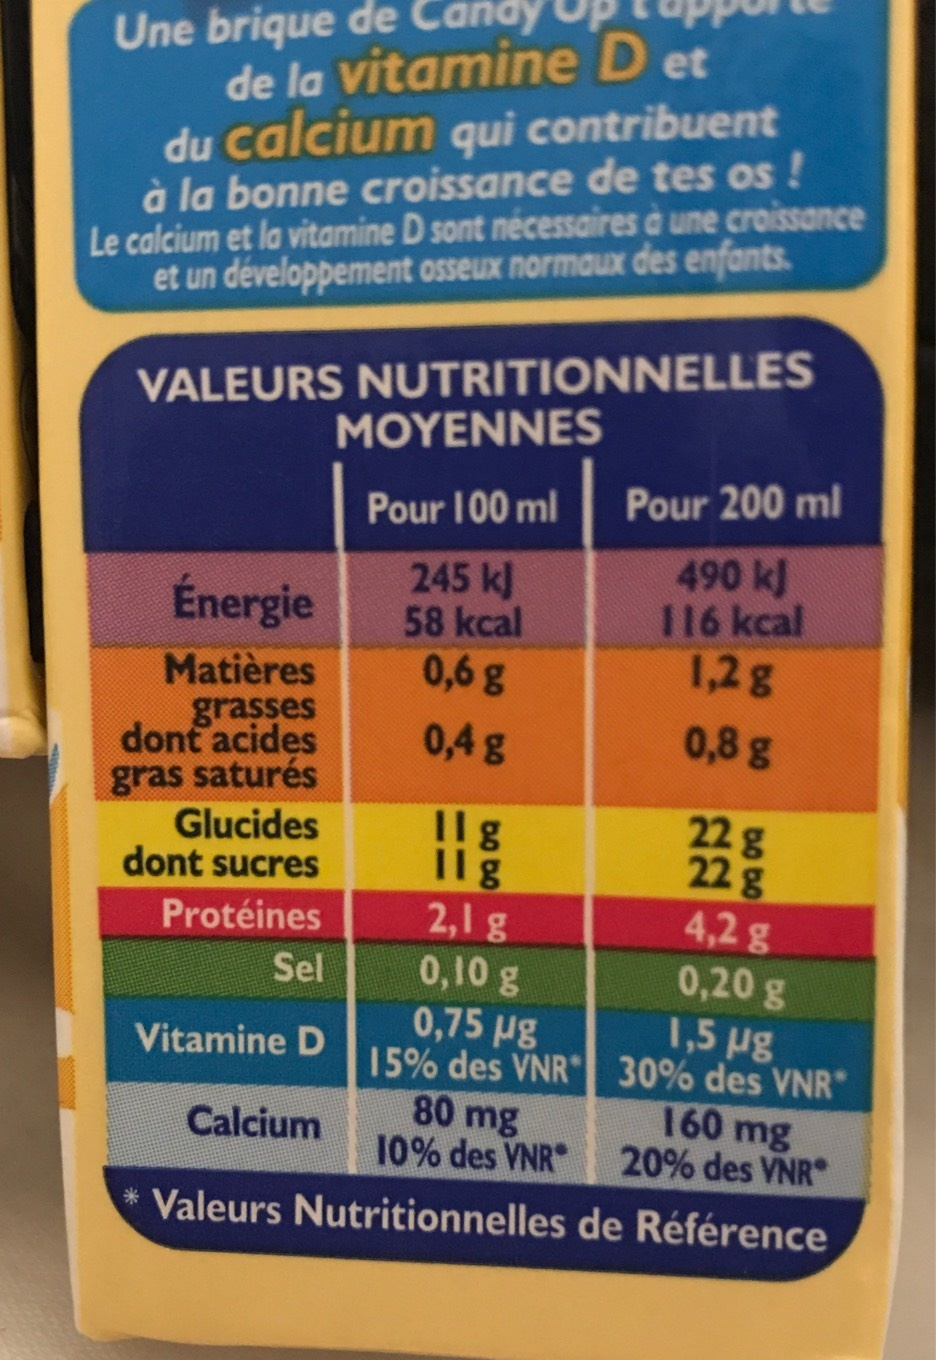table: (83, 328, 881, 1276)
